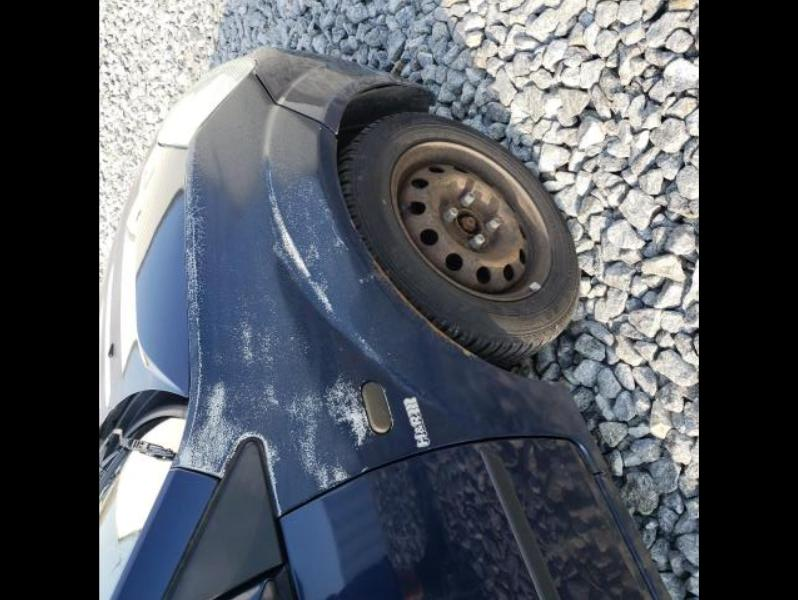Broken part: (351, 79, 418, 102)
Corrosion: (390, 135, 553, 302), (349, 219, 478, 363), (327, 133, 337, 153)
Flaking: (171, 126, 396, 515)
Paint chip: (315, 120, 339, 133)
